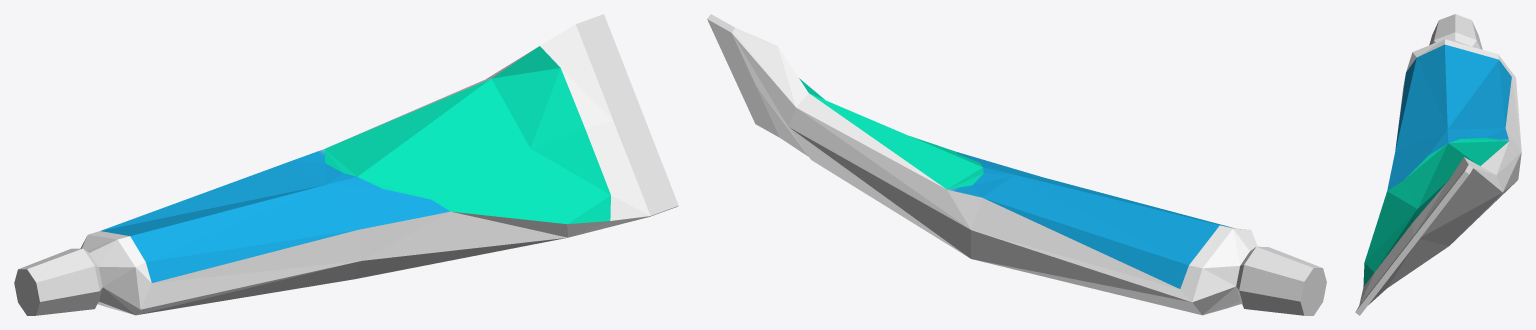
The model's file is CKToothpaste.dae.
3 renders of one model, left to right at view 1: azimuth 30°, elevation 25°; view 2: azimuth 150°, elevation 25°; view 3: azimuth 270°, elevation 25°, orthographic. The views are drawn at different scales.
Parts seen in each view (by area): view 1: Cylinder_005; view 2: Cylinder_005; view 3: Cylinder_005.
Part boxes in pixels (box(x1,y1,x2,y2)): Cylinder_005: box(14, 14, 678, 315); Cylinder_005: box(707, 14, 1326, 315); Cylinder_005: box(1355, 14, 1521, 315).
Size of the model in its own units: 5.34 by 1.43 by 1.48.
Materials: 4 (4 with a texture image).
